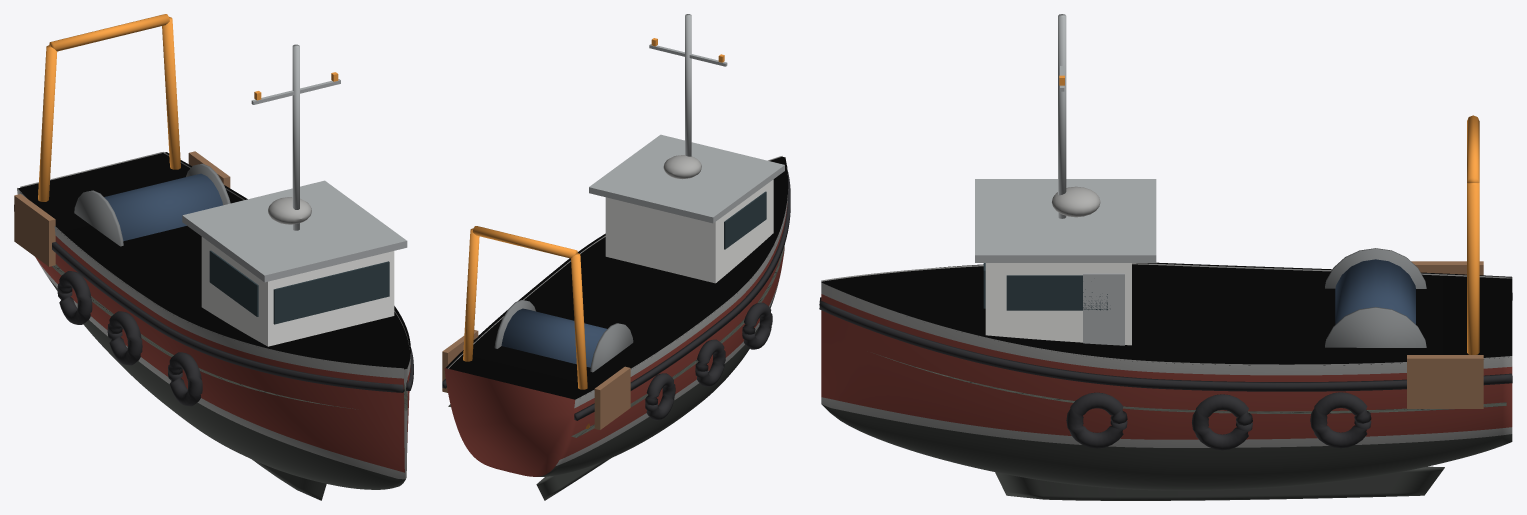
Rendered from fishing.glb.
The picture shows the model from 3 angles, left to right: view 1: azimuth 30°, elevation 25°; view 2: azimuth 150°, elevation 25°; view 3: azimuth 270°, elevation 25°; orthographic projection. The views are drawn at different scales.
Visible parts, largest first — view 1: Hull, WaterMask, WheelhouseRoof, Wheelhouse, NetDrum, FrontWindows, Rubrail.001, TrawlDoor.001, Gantry.001, Gantry, Window.001, DrumEnd.001 (+11 smaller); view 2: Hull, WaterMask, WheelhouseRoof, Wheelhouse, NetDrum, Rubrail.001, TrawlDoor.001, Gantry.001, Gantry, Window.001, DrumEnd.001, Tire.005 (+9 smaller); view 3: Hull, WaterMask, WheelhouseRoof, Keel, Rubrail, Wheelhouse, TrawlDoor, NetDrum, DrumEnd, Door, Window, Gantry (+9 smaller).
Boxes of the visible parts, x1,y1,x2,y2 form: Hull: (17,188,410,489); WaterMask: (17,152,410,369); WheelhouseRoof: (182,180,407,282); Wheelhouse: (201,237,394,346); NetDrum: (104,173,222,241); FrontWindows: (273,261,389,324); Rubrail.001: (14,205,404,392); TrawlDoor.001: (14,194,55,266); Gantry.001: (38,45,57,201); Gantry: (162,17,180,169); Window.001: (209,250,258,316); DrumEnd.001: (74,190,123,246); Hull: (444,189,788,476); WaterMask: (446,156,788,399); WheelhouseRoof: (589,134,784,223); Wheelhouse: (605,179,773,283); NetDrum: (501,308,606,367); Rubrail.001: (574,171,790,420); TrawlDoor.001: (594,366,630,429); Gantry.001: (571,253,589,428); Gantry: (463,228,479,361); Window.001: (724,191,766,249); DrumEnd.001: (590,323,633,372); Tire.005: (742,302,772,349); Hull: (821,282,1512,490); WaterMask: (821,262,1512,365); WheelhouseRoof: (975,179,1156,262); Keel: (995,466,1444,500); Rubrail: (819,301,1512,391); Wheelhouse: (985,263,1131,345); TrawlDoor: (1407,355,1483,408); NetDrum: (1335,259,1415,324); DrumEnd: (1325,307,1426,347); Door: (1083,273,1124,345); Window: (1006,275,1110,310); Gantry: (1467,183,1479,354).
Size of the model in its own units: 3.83 by 7.6 by 9.95.
Materials: 13 (1 with a texture image).
